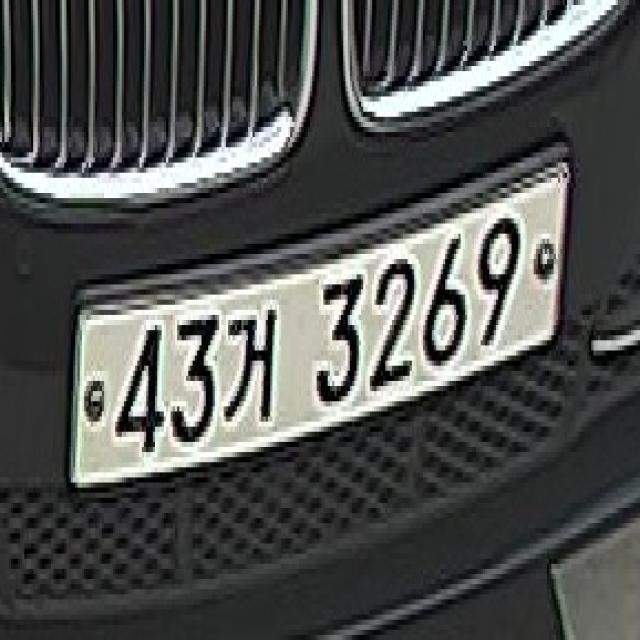plat: (65, 132, 574, 488)
